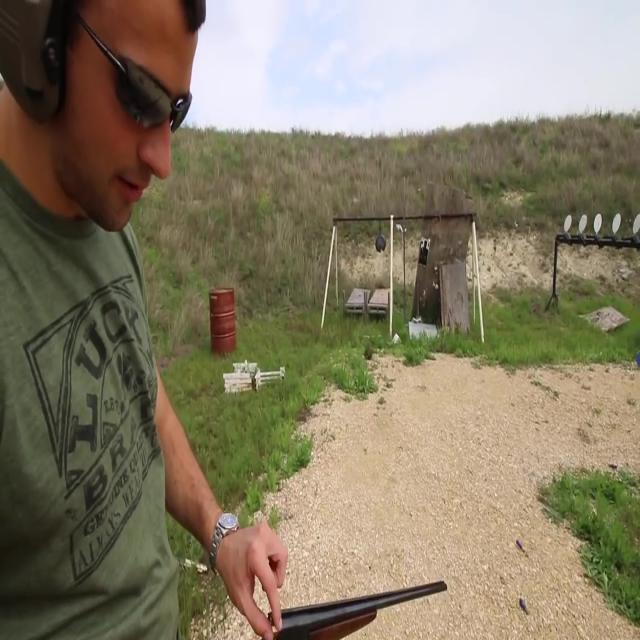Weapon: (202, 530, 458, 640)
